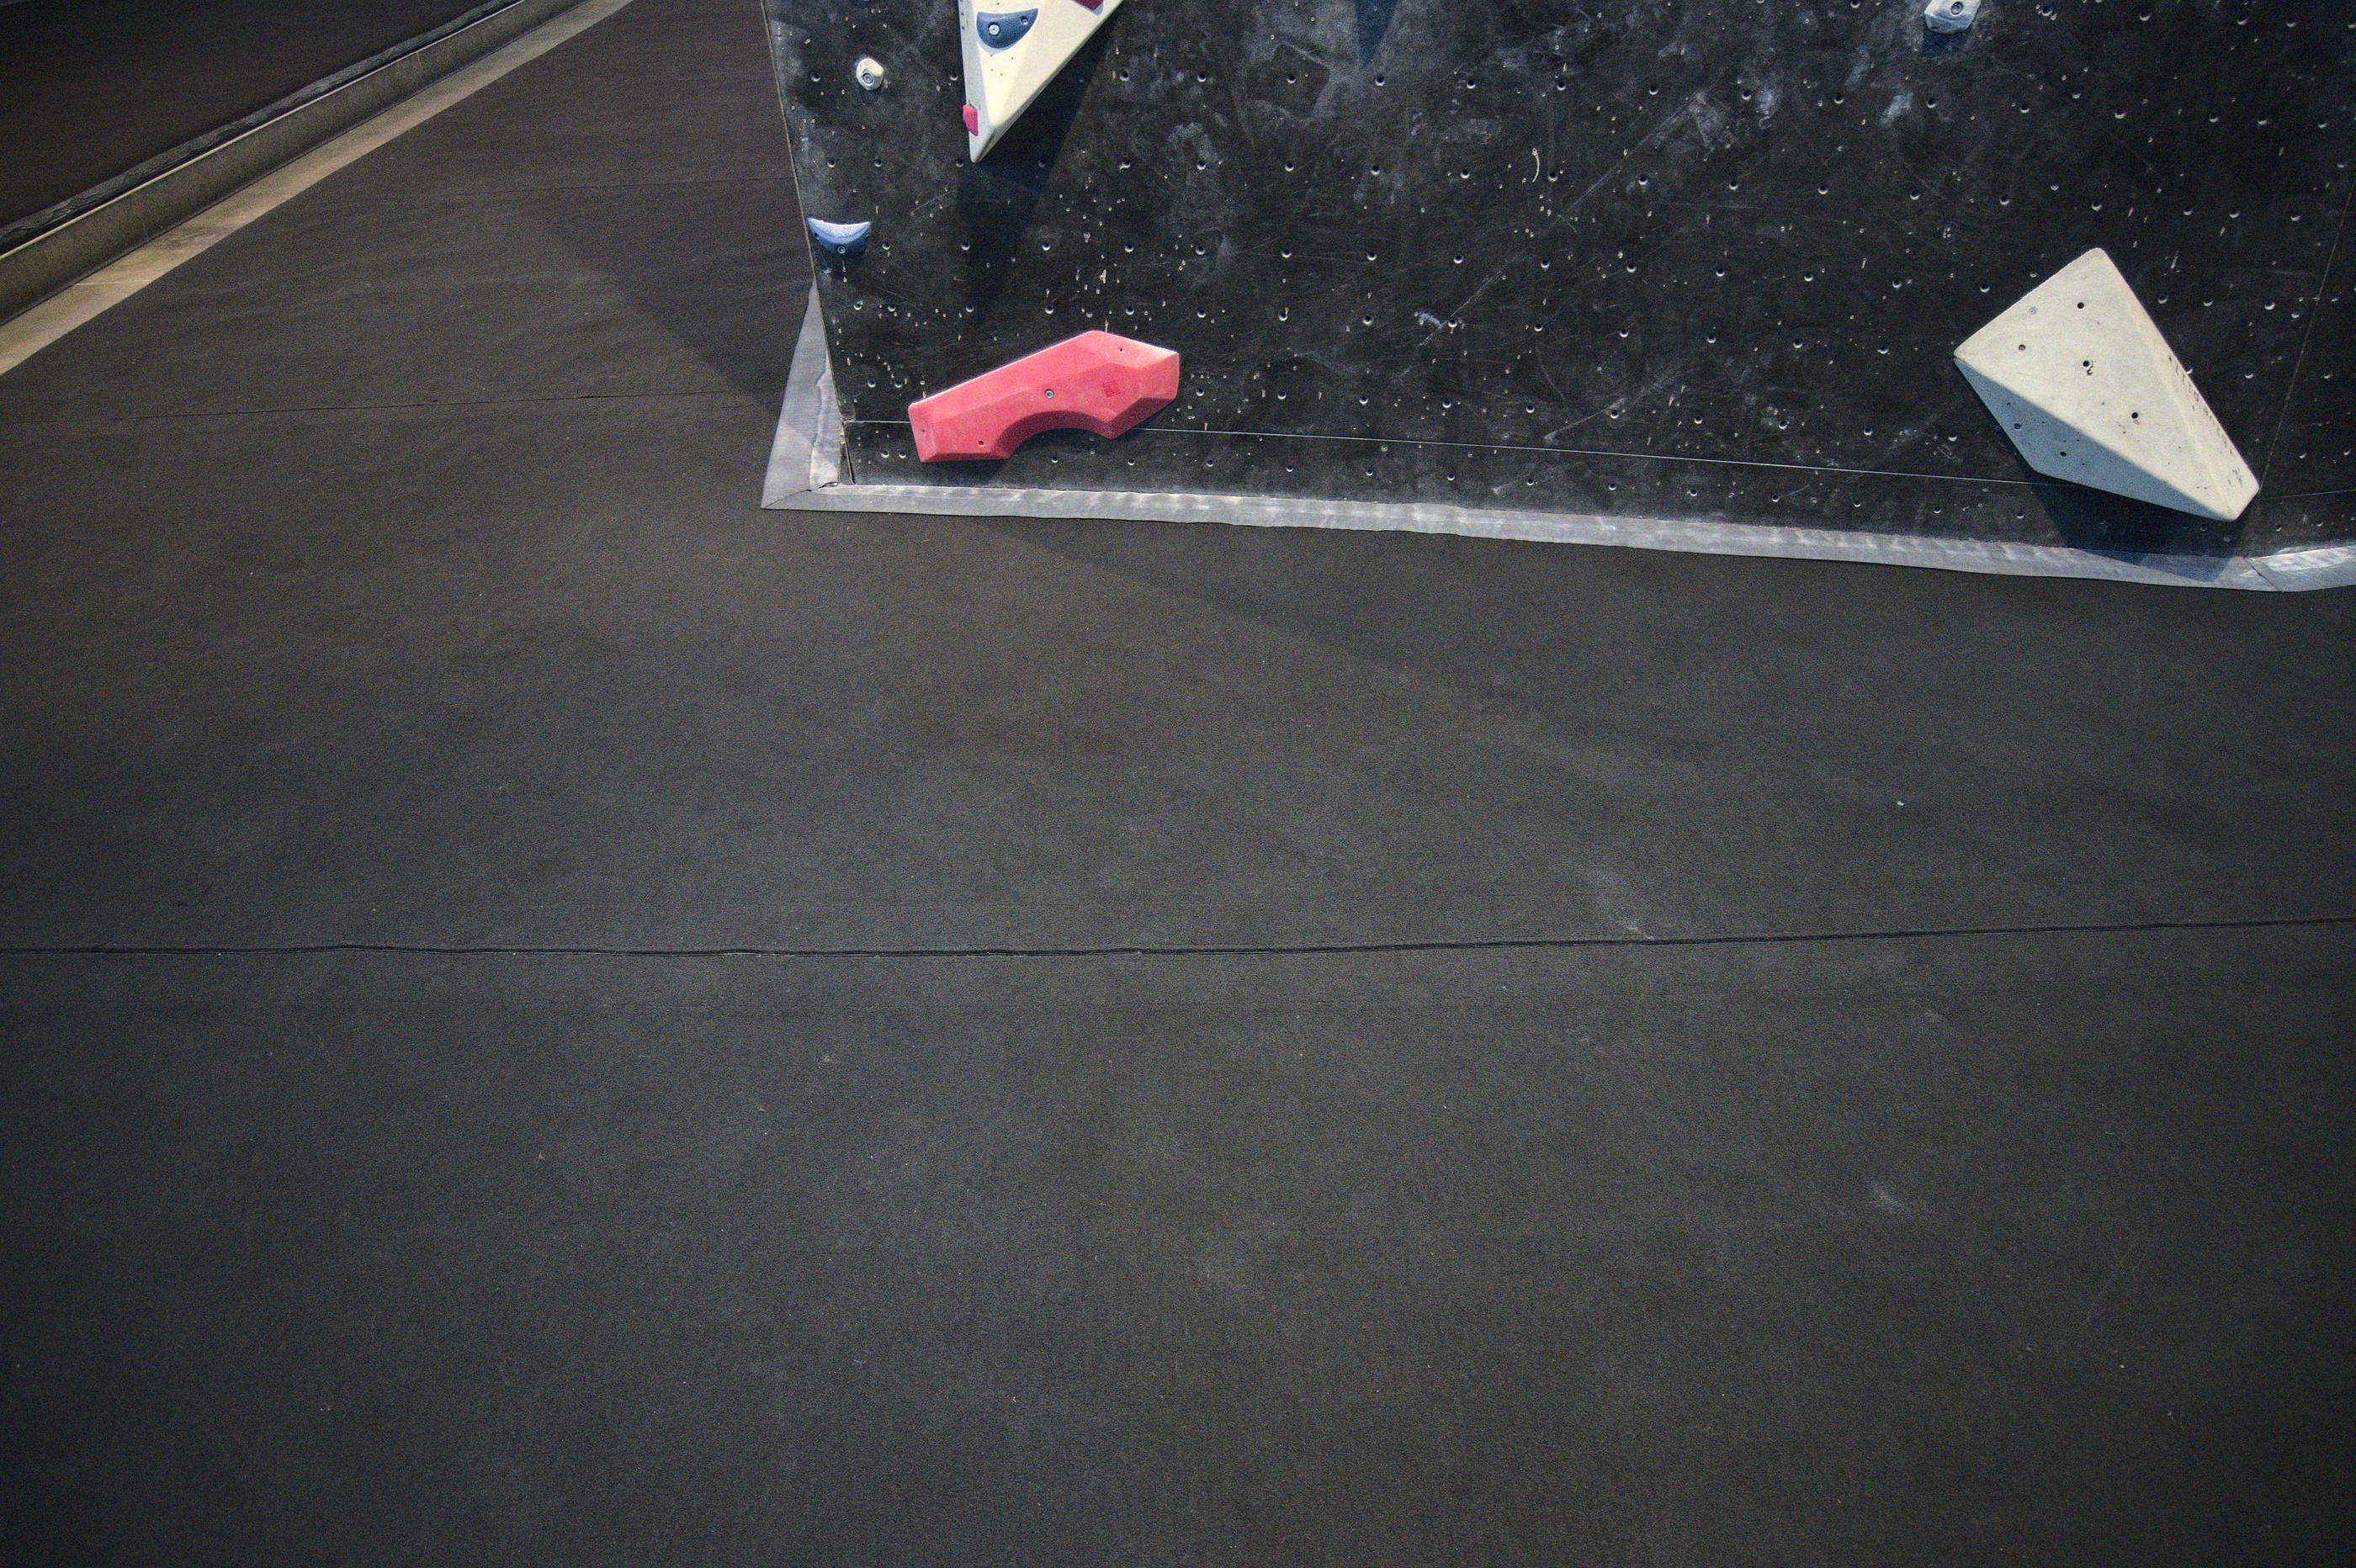Climbing-Holds: (900, 315, 1192, 474), (803, 217, 872, 257), (975, 9, 1040, 51), (845, 51, 893, 98), (1925, 0, 1980, 33), (961, 105, 978, 135)
